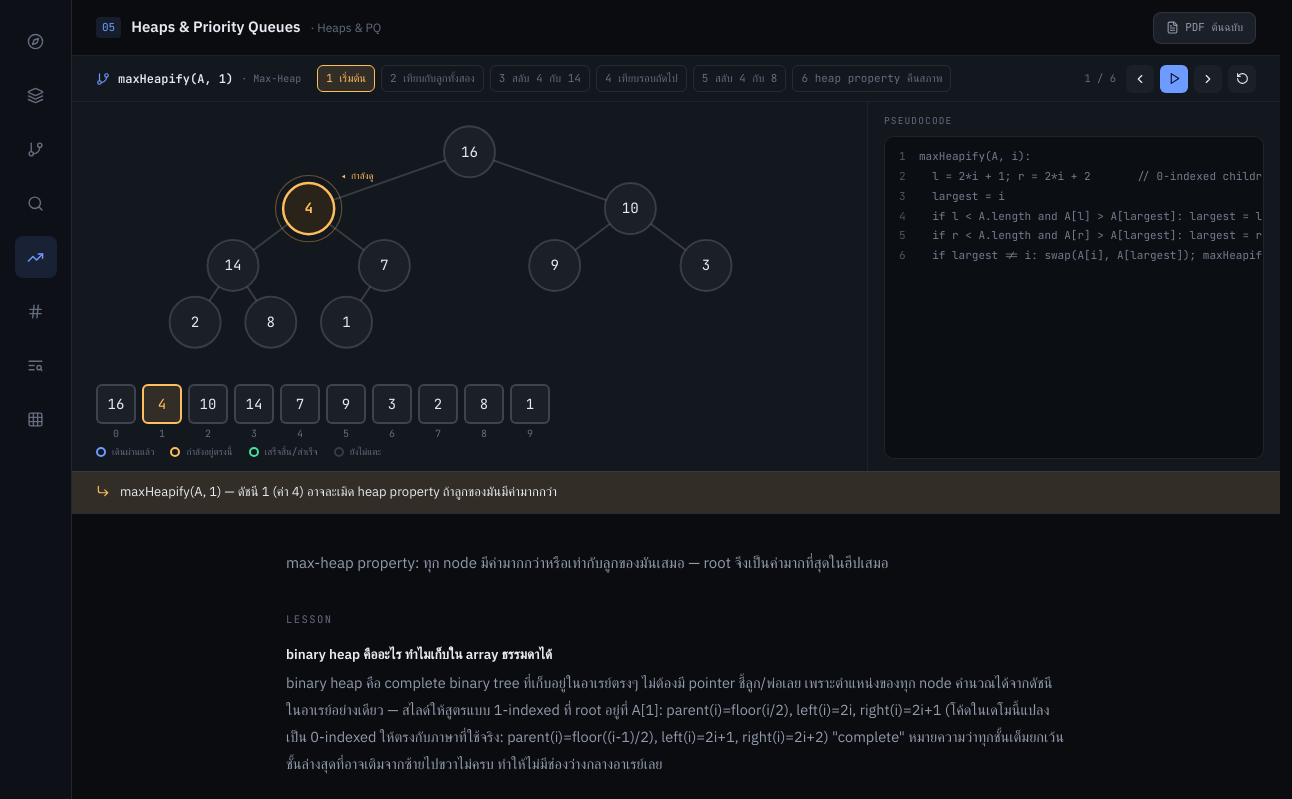
it: Chapter05Page › shows the final swapped array after stepping to the last chip
expect the text with test id "heap-cell-value-3" shows "4": met, box [234,384,274,424]
Click the button "6 heap property คืนสภาพ".
click(872, 79)  # box [792,65,951,92]
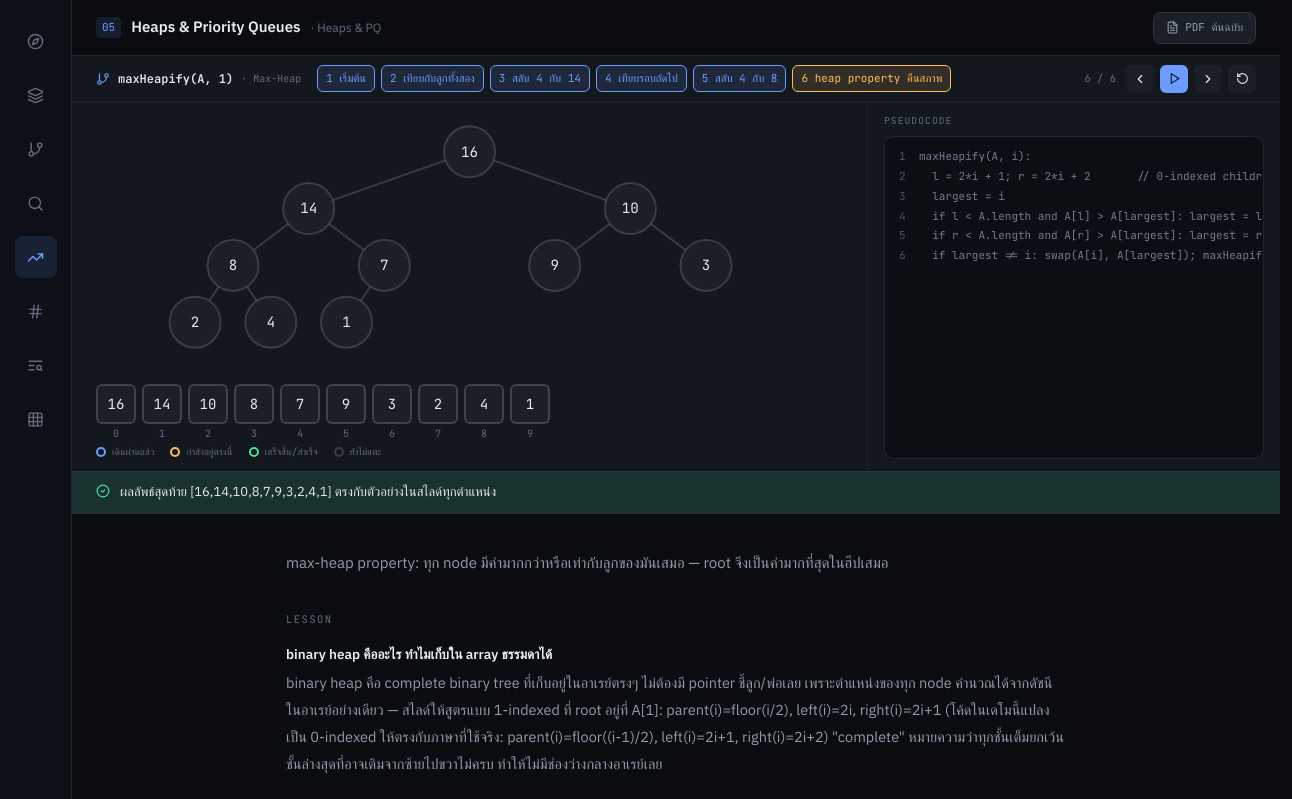
expect the text with test id "heap-cell-value-3" reads "8": met, box [250,394,258,412]
